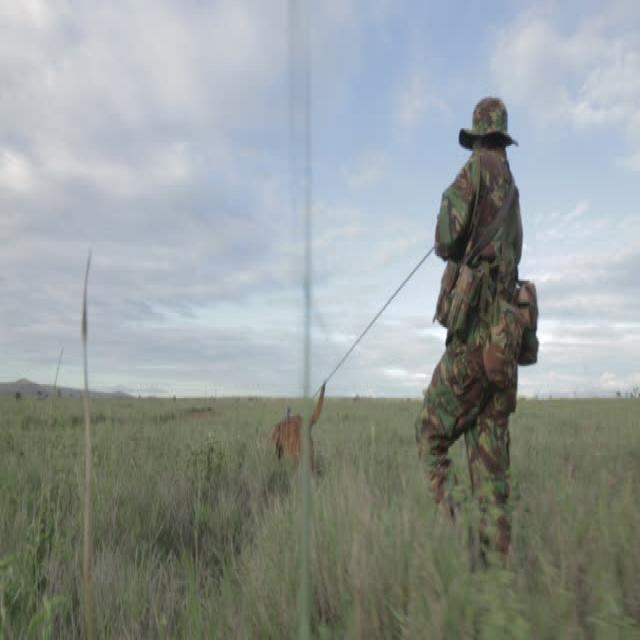dog: (238, 372, 367, 517)
ranger: (347, 74, 605, 533)
